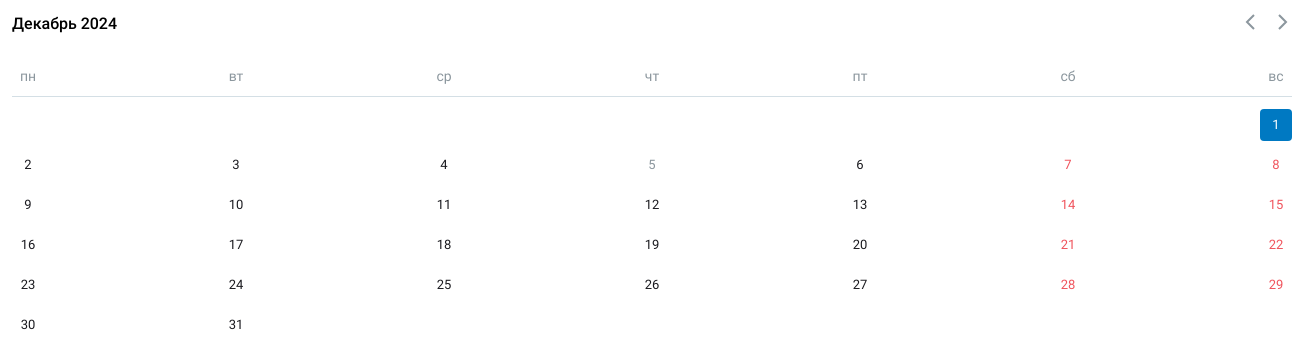
Test case: Компонент CalendarMonth › При клике на неактивную ячейку появляется попап
Expected: the text "Дата недоступна для выбора" is not shown
Click the element showing "5": (652, 164) [648, 157, 656, 172]
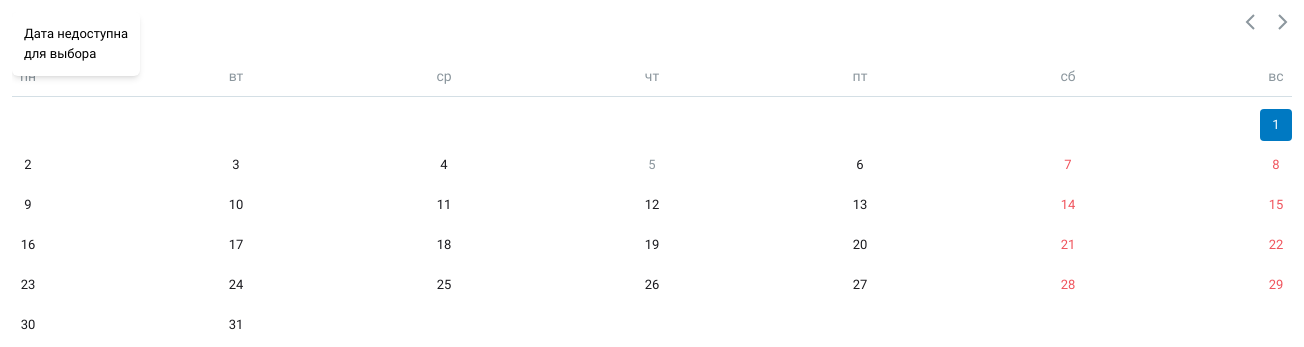
Now the text "Дата недоступна для выбора" is shown, box [24, 26, 128, 61]
